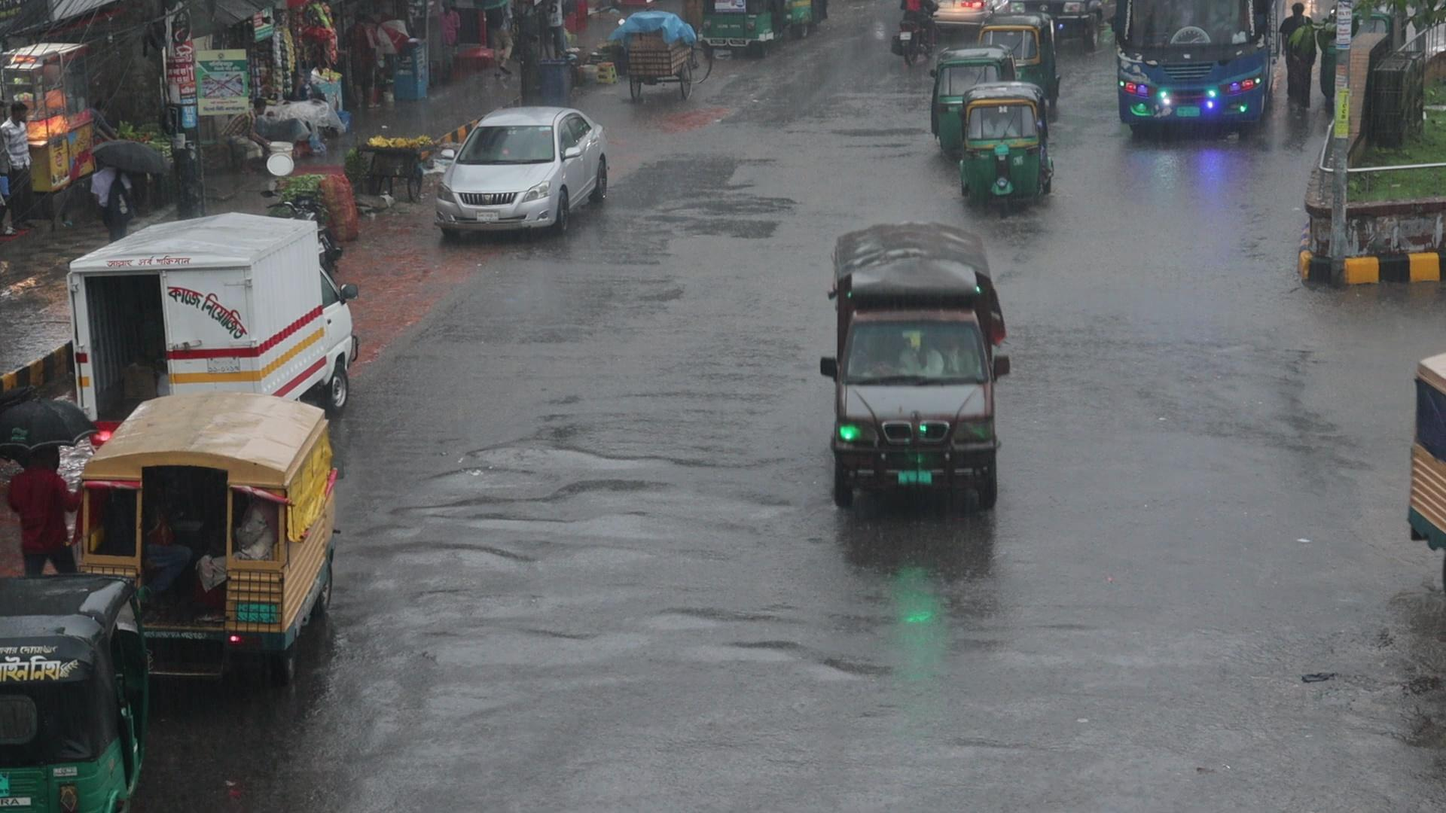Truck: (81, 388, 334, 685), (816, 218, 1012, 514)
